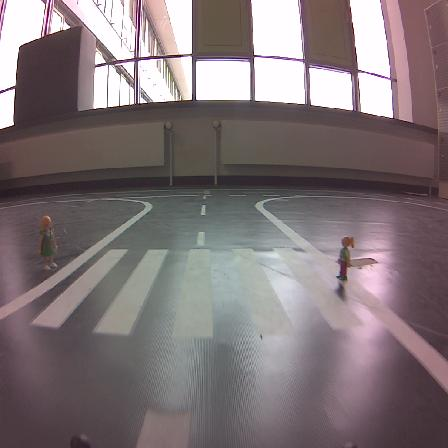CHILD: (337, 237, 354, 280)
PERSON: (38, 216, 57, 270)
